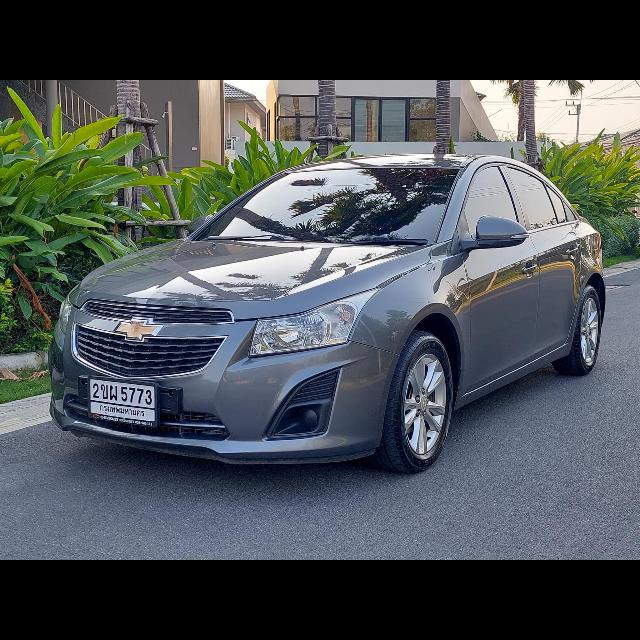cars: (27, 146, 621, 488)
